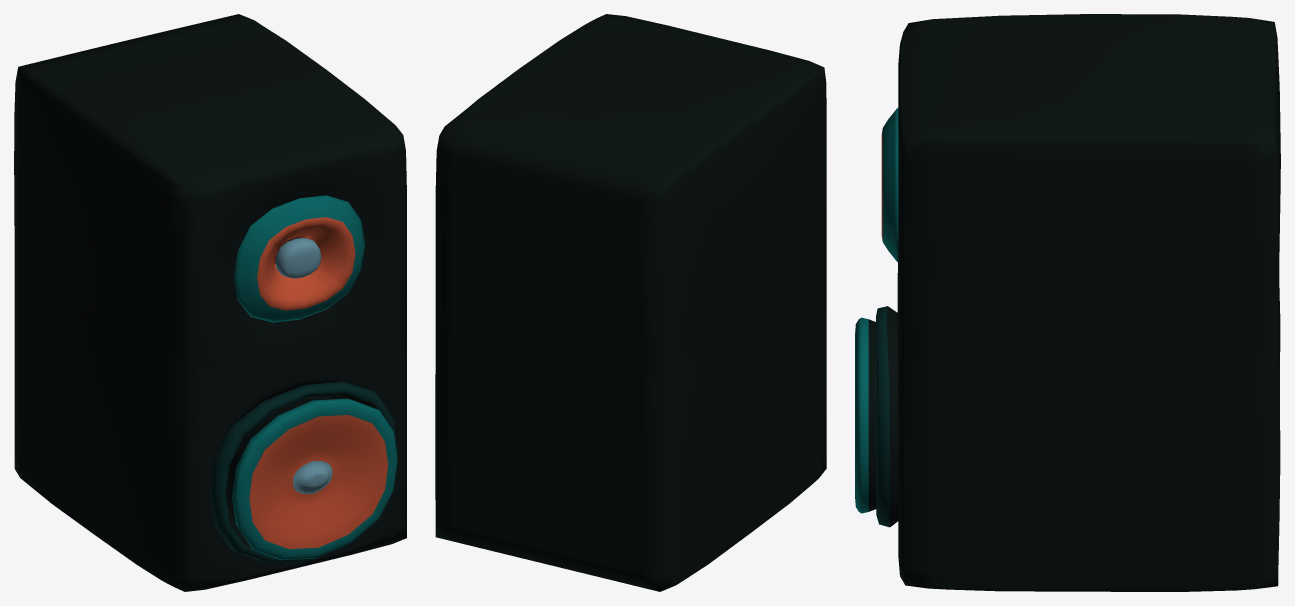
File: speaker.fbx
The picture shows the model from 3 angles, left to right: view 1: azimuth 30°, elevation 25°; view 2: azimuth 150°, elevation 25°; view 3: azimuth 270°, elevation 25°; orthographic projection. The views are drawn at different scales.
Visible parts, largest first — view 1: pCube1; view 2: pCube1; view 3: pCube1.
Boxes of the visible parts, <box> form: pCube1: <box>14,14,406,591</box>; pCube1: <box>435,14,826,591</box>; pCube1: <box>855,14,1280,591</box>.
Size of the model in its own units: 60.5 by 99.72 by 84.06.
